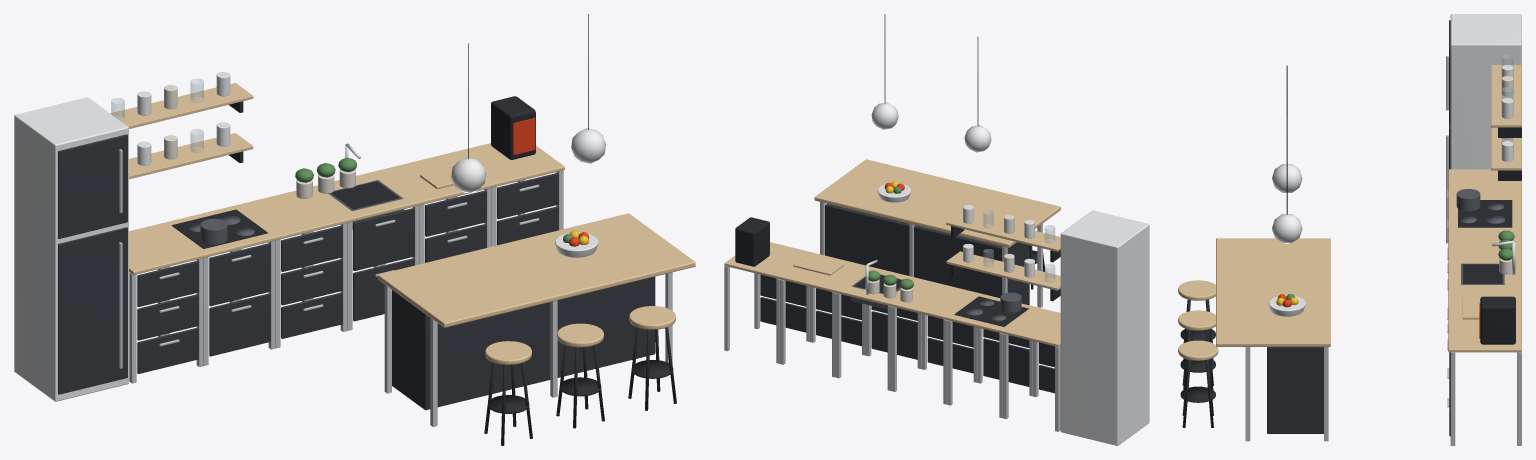
The model's file is mutfak.glb.
The picture shows the model from 3 angles, left to right: view 1: azimuth 30°, elevation 25°; view 2: azimuth 150°, elevation 25°; view 3: azimuth 270°, elevation 25°; orthographic projection. The views are drawn at different scales.
Visible parts, largest first — view 1: is_body, is_top, fr_body, k_top, fr_door0.06, fr_door1.3, km1_f1, km1_f0, km3_f1, osh1, osh0, km4_f2 (+24 smaller); view 2: fr_body, is_body, is_top, k_top, osh0, osh1, km1_f0, coffee, km3_f0, km2_f0, km5_f0, km4_f0 (+16 smaller); view 3: is_top, k_top, fr_body, is_body, coffee, osh1, hob, osh0, sink_in, ipend1, ipend0, stool2_seat (+10 smaller).
Boxes of the visible parts, box(x1,y1,x2,y2) form: is_body: box(392, 276, 655, 410); is_top: box(377, 213, 695, 327); fr_body: box(14, 97, 128, 401); k_top: box(129, 143, 564, 274); fr_door0.06: box(58, 227, 127, 394); fr_door1.3: box(58, 134, 127, 238); km1_f1: box(209, 243, 270, 306); km1_f0: box(209, 293, 270, 356); km3_f1: box(353, 208, 414, 270); osh1: box(110, 83, 253, 128); osh0: box(129, 133, 253, 179); km4_f2: box(425, 190, 486, 236); fr_body: box(1060, 210, 1149, 445); is_body: box(825, 203, 1029, 305); is_top: box(814, 159, 1060, 247); k_top: box(724, 242, 1060, 346); osh0: box(946, 251, 1060, 290); osh1: box(946, 212, 1060, 251); km1_f0: box(983, 338, 1029, 386); coffee: box(735, 217, 769, 266); km3_f0: box(871, 311, 917, 359); km2_f0: box(927, 337, 973, 373); km5_f0: box(760, 297, 806, 332); km4_f0: box(816, 310, 861, 346); is_top: box(1216, 238, 1330, 346); k_top: box(1448, 169, 1521, 352); fr_body: box(1450, 14, 1521, 169); is_body: box(1267, 347, 1323, 433); coffee: box(1480, 296, 1515, 344); osh1: box(1491, 65, 1521, 127); hob: box(1458, 200, 1512, 227); osh0: box(1491, 127, 1521, 170); sink_in: box(1463, 264, 1502, 283); ipend1: box(1272, 214, 1302, 243); ipend0: box(1272, 164, 1302, 192); stool2_seat: box(1178, 340, 1218, 360).
Size of the model in its own units: 4.24 by 2.8 by 2.9.
